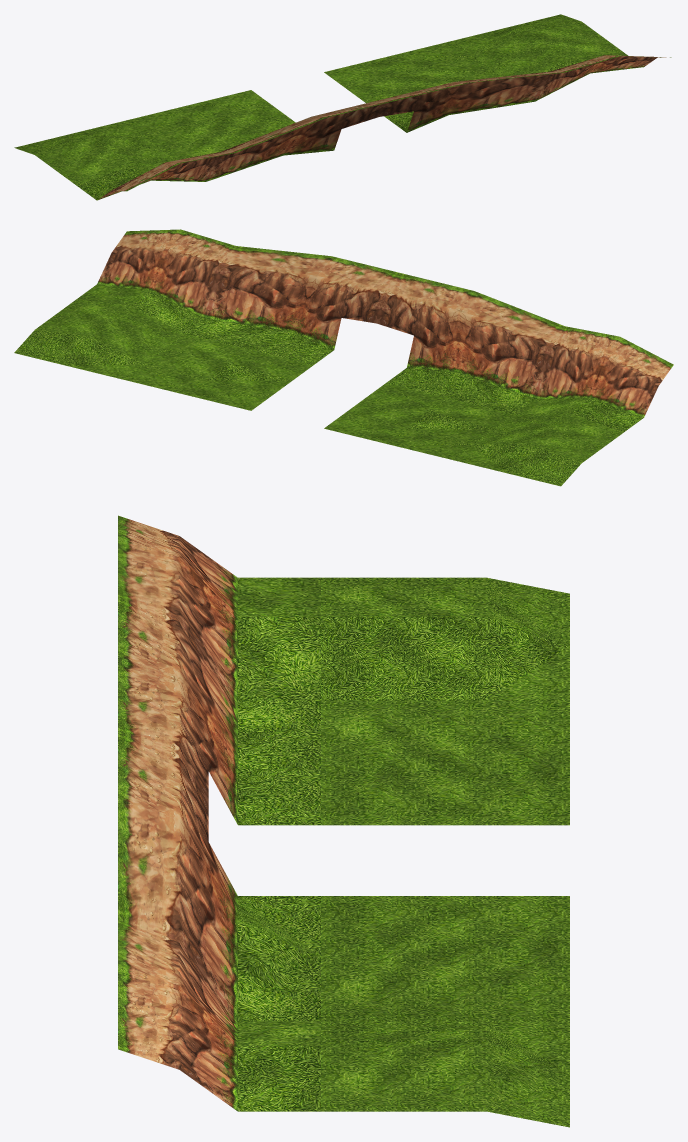
Rendered from tunnel_hill.fbx.
3 views of the same model, one above another, from view 1: azimuth 30°, elevation 25°; view 2: azimuth 150°, elevation 25°; view 3: azimuth 270°, elevation 25° (orthographic). The views are drawn at different scales.
Parts seen in each view (by area): view 1: tunnel_hill; view 2: tunnel_hill; view 3: tunnel_hill.
Part boxes in pixels (x1,y1,x2,y2): tunnel_hill: [14, 14, 671, 200]; tunnel_hill: [14, 229, 673, 486]; tunnel_hill: [118, 515, 569, 1127].
Bounding box in the file's own units: 18842 × 2109 × 6740.
